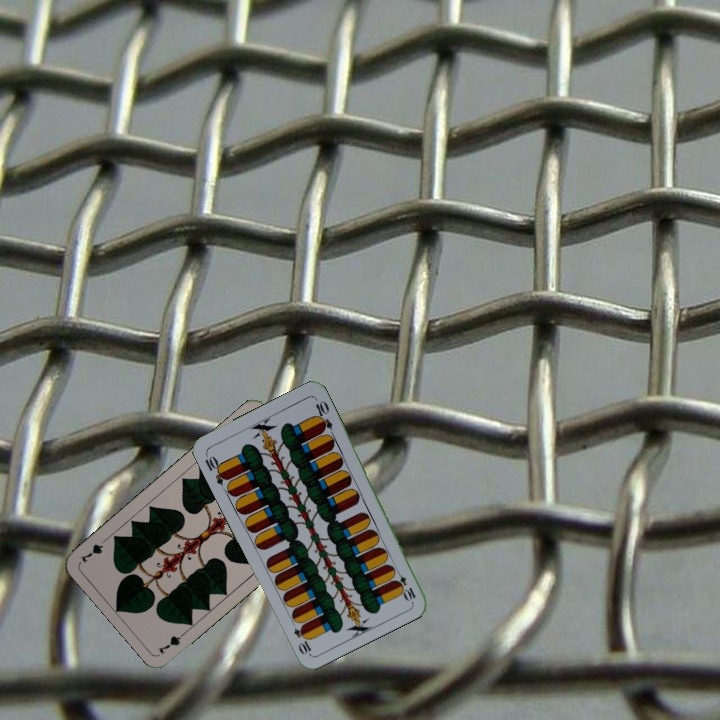E10: (201, 450, 231, 488), (391, 565, 418, 604)
G7: (154, 626, 190, 657)
